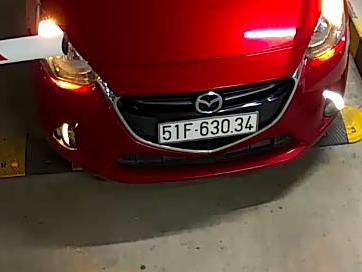car: (156, 110, 259, 146)
